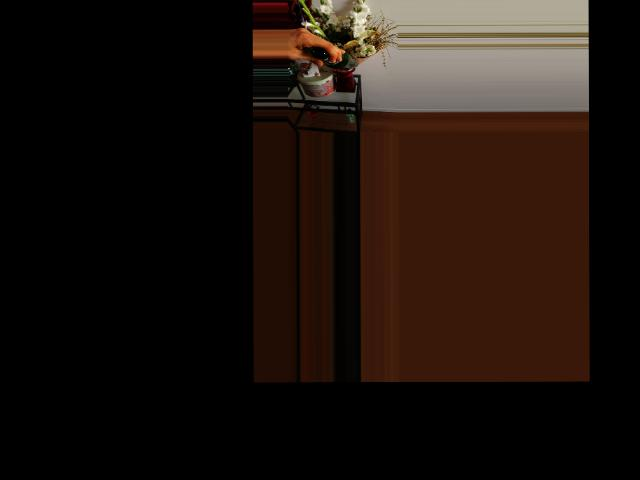beer: (311, 47, 356, 70)
